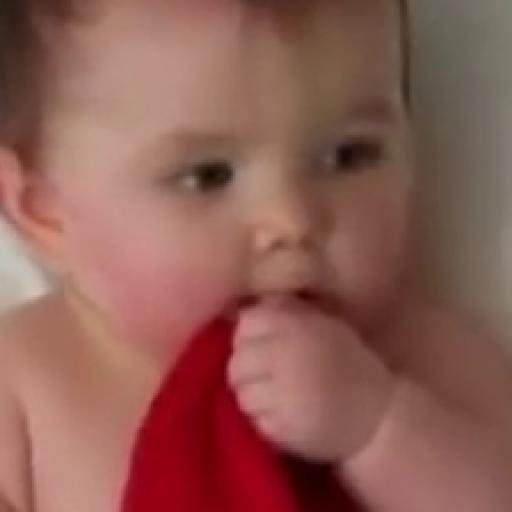Autism: (29, 8, 416, 422)
